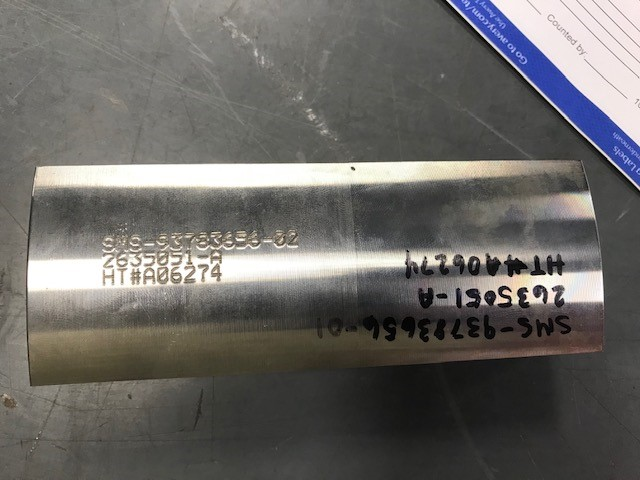character: (206, 248, 225, 267), (180, 264, 198, 284), (99, 233, 116, 254), (126, 233, 144, 252), (284, 228, 301, 248), (232, 229, 248, 250), (220, 229, 235, 251), (208, 231, 224, 251), (113, 232, 128, 253), (169, 231, 184, 252), (195, 230, 210, 251), (248, 228, 262, 250), (260, 228, 274, 250), (169, 264, 183, 286), (101, 266, 117, 285), (142, 232, 157, 252), (272, 229, 287, 249), (142, 248, 157, 268), (155, 266, 170, 286), (127, 267, 142, 286), (170, 248, 184, 268), (196, 263, 209, 284), (154, 233, 170, 250), (127, 251, 143, 268), (208, 264, 224, 281), (115, 250, 130, 268), (156, 248, 170, 267), (142, 266, 155, 286), (182, 232, 195, 250), (101, 252, 115, 267), (117, 266, 127, 286), (184, 248, 194, 266), (197, 248, 207, 266)
